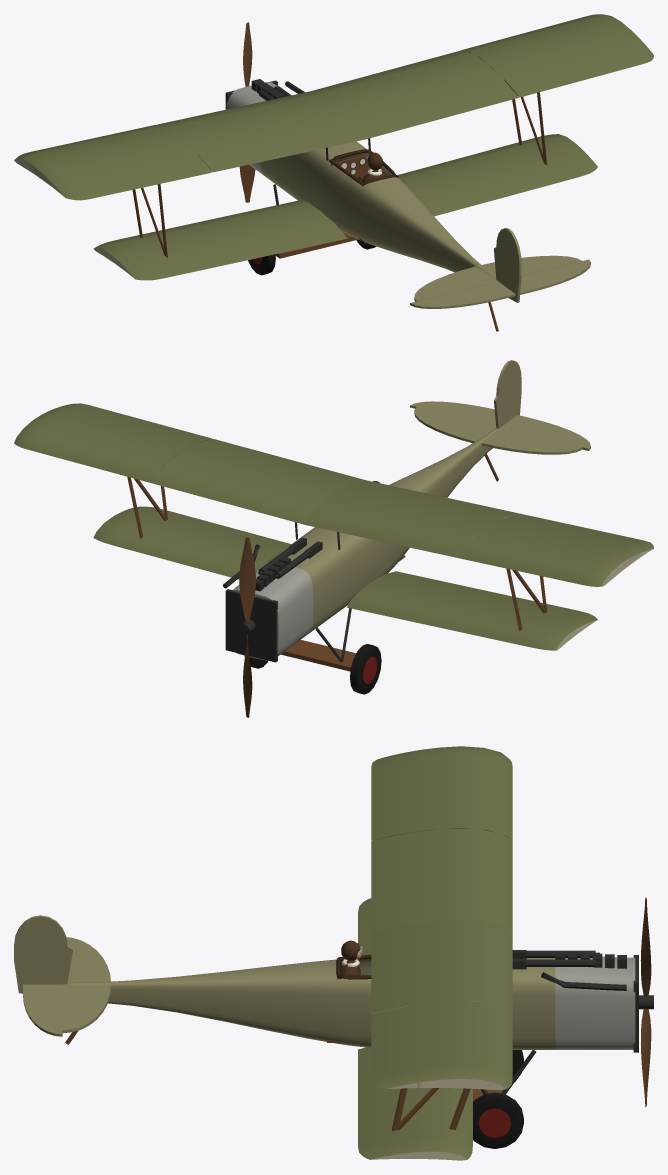
Rendered from fokker_dvii.glb.
3 views of the same model, one above another, from view 1: azimuth 30°, elevation 25°; view 2: azimuth 150°, elevation 25°; view 3: azimuth 270°, elevation 25° (orthographic). The views are drawn at different scales.
Visible parts, largest first — view 1: Wing_Upper_R, Wing_Upper_L, Fuselage, Wing_Lower_L, Wing_Lower_R, Aileron_R, Aileron_L, Elevator, Rudder, Stabilizer_L, Struts, PropBlades (+5 smaller); view 2: Wing_Upper_R, Wing_Upper_L, Fuselage, Wing_Lower_L, Wing_Lower_R, Engine, Elevator, PropBlades, Undercarriage, Stabilizer_L, Stabilizer_R, Rudder (+5 smaller); view 3: Fuselage, Wing_Upper_L, Wing_Upper_R, Wing_Lower_R, Rudder, Aileron_L, Aileron_R, Wheels, Stabilizer_R, Elevator, PropBlades, Engine (+5 smaller).
Part boxes in pixels (bbox=[...]): Wing_Upper_R: bbox=[310, 14, 640, 138]; Wing_Upper_L: bbox=[14, 91, 365, 186]; Fuselage: bbox=[226, 82, 496, 279]; Wing_Lower_L: bbox=[93, 200, 347, 280]; Wing_Lower_R: bbox=[397, 134, 597, 216]; Aileron_R: bbox=[504, 39, 653, 97]; Aileron_L: bbox=[52, 154, 212, 200]; Elevator: bbox=[410, 259, 590, 308]; Rudder: bbox=[494, 228, 521, 302]; Stabilizer_L: bbox=[414, 266, 497, 301]; Struts: bbox=[132, 92, 547, 257]; PropBlades: bbox=[239, 22, 255, 202]; Wing_Upper_R: bbox=[14, 408, 365, 524]; Wing_Upper_L: bbox=[305, 480, 640, 586]; Fuselage: bbox=[232, 427, 500, 660]; Wing_Lower_L: bbox=[347, 571, 597, 650]; Wing_Lower_R: bbox=[93, 506, 291, 579]; Engine: bbox=[223, 544, 290, 662]; Elevator: bbox=[410, 401, 590, 450]; PropBlades: bbox=[239, 537, 255, 717]; Undercarriage: bbox=[281, 453, 498, 671]; Stabilizer_L: bbox=[481, 427, 582, 454]; Stabilizer_R: bbox=[414, 407, 496, 443]; Rudder: bbox=[494, 360, 521, 428]; Fuselage: bbox=[67, 956, 635, 1049]; Wing_Upper_L: bbox=[371, 746, 512, 932]; Wing_Upper_R: bbox=[371, 920, 512, 1090]; Wing_Lower_R: bbox=[358, 1046, 472, 1160]; Rudder: bbox=[14, 915, 73, 993]; Aileron_L: bbox=[371, 750, 415, 840]; Aileron_R: bbox=[371, 1006, 417, 1089]; Wheels: bbox=[473, 1050, 523, 1148]; Stabilizer_R: bbox=[62, 984, 110, 1033]; Elevator: bbox=[23, 984, 62, 1036]; PropBlades: bbox=[639, 897, 653, 1106]; Engine: bbox=[541, 952, 638, 1052].
Bounding box in the file's own units: 8.9 × 2.74 × 7.24.
